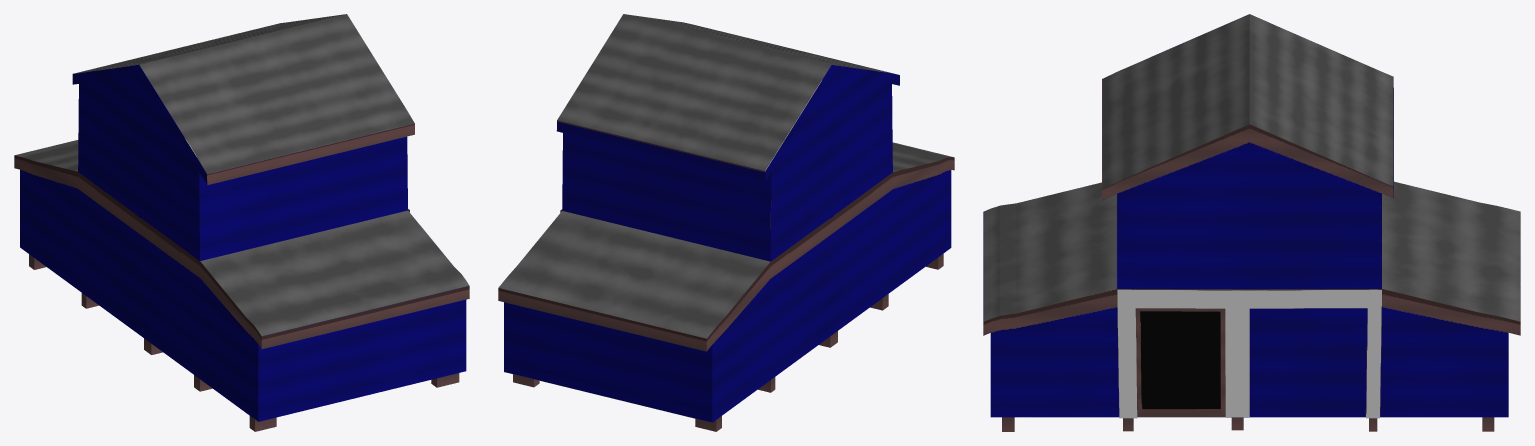
Rendered from Barn Experiment4.fbx.
The picture shows the model from 3 angles, left to right: view 1: azimuth 30°, elevation 25°; view 2: azimuth 150°, elevation 25°; view 3: azimuth 270°, elevation 25°; orthographic projection. The views are drawn at different scales.
Visible parts, largest first — view 1: Coop 2 EXP; view 2: Coop 2 EXP; view 3: Coop 2 EXP.
Part boxes in pixels (x1=…): Coop 2 EXP: x1=14, y1=14, x2=469, y2=431; Coop 2 EXP: x1=498, y1=14, x2=954, y2=431; Coop 2 EXP: x1=983, y1=14, x2=1520, y2=431.
Bounding box in the file's own units: 165 × 214 × 337.
Materials: 1 (1 with a texture image).
